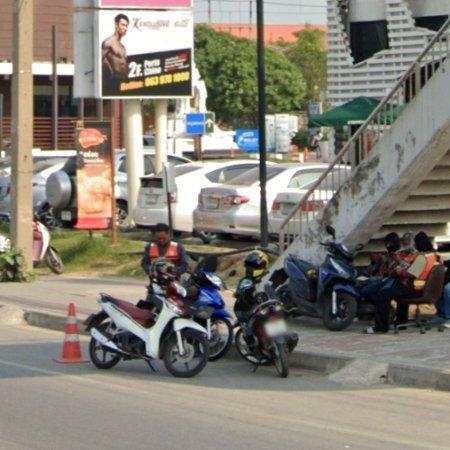motorcycles: (87, 261, 208, 378), (265, 226, 360, 332), (234, 251, 299, 378)
